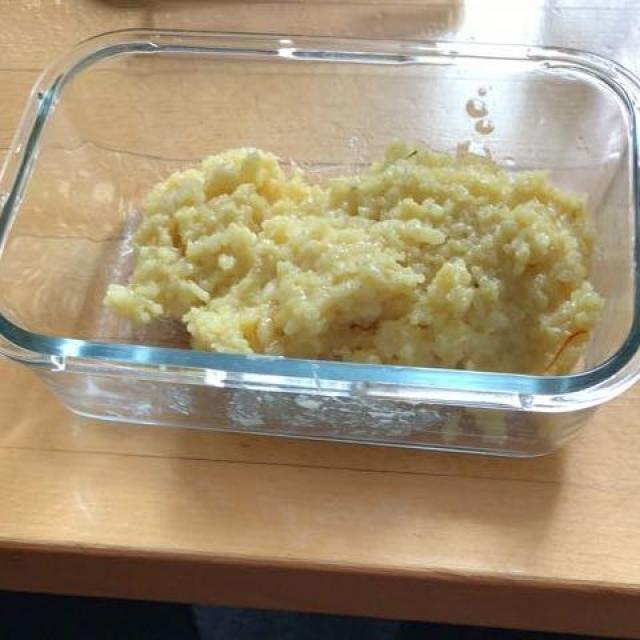risotto-without-cheese-cooked: (105, 146, 593, 366)
